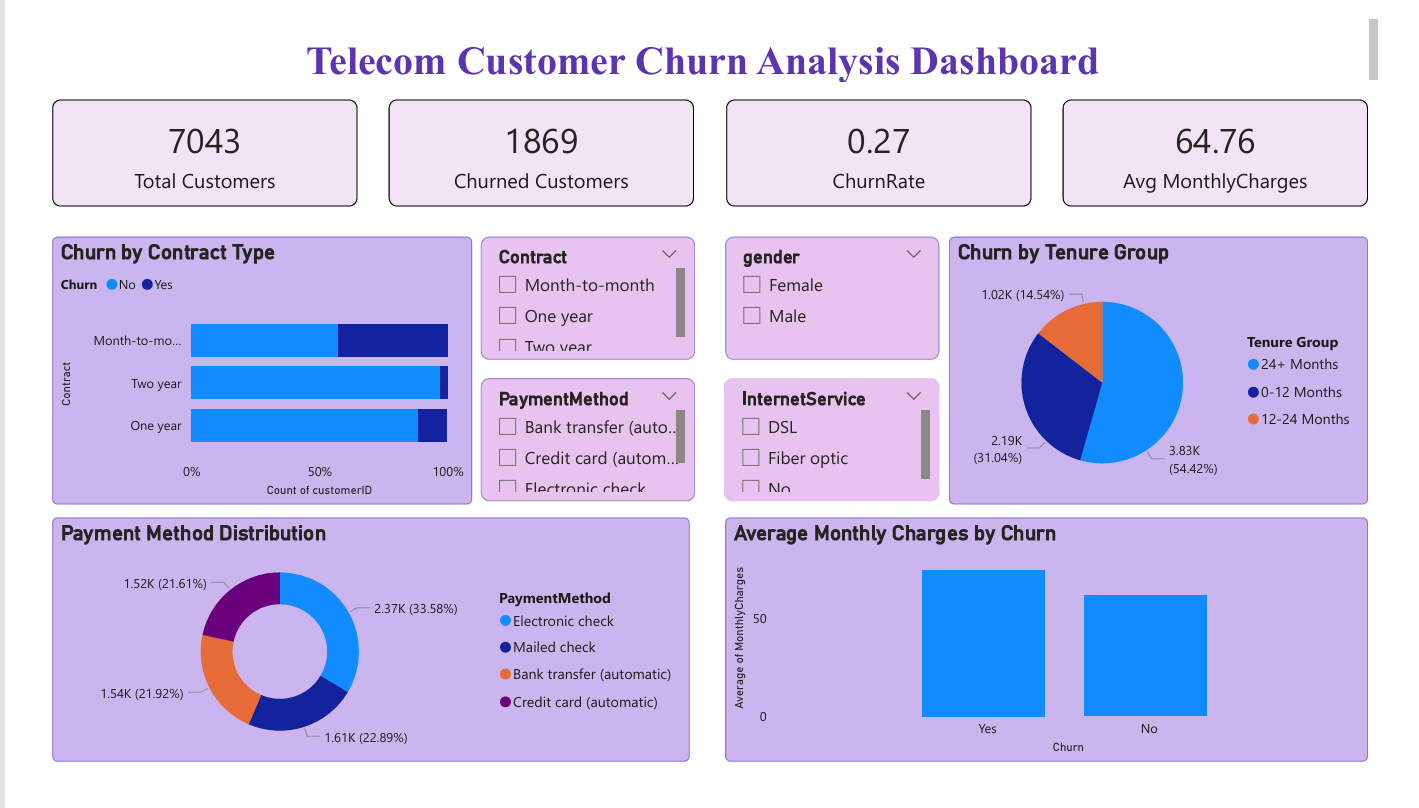

The dashboard page shown, as its layout file describes it:
{"tool":"powerbi","page":{"name":"Page 1","canvas":[1280,720],"ordinal":0},"visuals":[{"type":"hundredPercentStackedBarChart","title":"Churn by Contract Type","fields":{"Category":["telecom dataset.Contract"],"Y":["CountNonNull(telecom dataset.customerID)"],"Series":["telecom dataset.Churn"]},"box":[20,208.3,391.7,250],"z":0},{"type":"pieChart","title":"Churn by Tenure Group","fields":{"Category":["telecom dataset.Tenure Group"],"Y":["CountNonNull(telecom dataset.customerID)"]},"box":[856.7,208.3,391.7,250],"z":1000},{"type":"clusteredColumnChart","title":"Average  Monthly Charges by Churn","fields":{"Category":["telecom dataset.Churn"],"Y":["Avg(telecom dataset.MonthlyCharges)"]},"box":[648.3,470,600,228.3],"z":2000},{"type":"slicer","fields":{"Values":["telecom dataset.Contract"]},"box":[420,208.3,200,115],"z":3000},{"type":"slicer","fields":{"Values":["telecom dataset.PaymentMethod"]},"box":[420,340,200,115],"z":4000},{"type":"slicer","fields":{"Values":["telecom dataset.InternetService"]},"box":[646.7,340,201.7,115],"z":5000},{"type":"slicer","fields":{"Values":["telecom dataset.gender"]},"box":[648.3,208.3,200,115],"z":6000},{"type":"card","fields":{"Values":["telecom dataset.Total Customers"]},"box":[19.6,80,285,100],"z":7000},{"type":"card","fields":{"Values":["telecom dataset.Churned Customers"]},"box":[334.2,80,285,100],"z":8000},{"type":"card","fields":{"Values":["telecom dataset.ChurnRate"]},"box":[648.7,80,285,100],"z":9000},{"type":"card","fields":{"Values":["telecom dataset.Avg MonthlyCharges"]},"box":[963,80,285,100],"z":10000},{"type":"donutChart","title":" Payment Method Distribution","fields":{"Category":["telecom dataset.PaymentMethod"],"Y":["CountNonNull(telecom dataset.customerID)"]},"box":[20,470,595,228],"z":11000},{"type":"textbox","box":[0,0,1261.7,68.3],"z":12000}]}

Visuals, with their boxes in screenshot pixels (x1, y1, x2, y2), scaled from the page's 1280x720 canvas onto the 1419x808 screenshot:
"Churn by Contract Type" hundredPercentStackedBarChart: bbox(22, 234, 456, 514)
"Churn by Tenure Group" pieChart: bbox(950, 234, 1384, 514)
"Average  Monthly Charges by Churn" clusteredColumnChart: bbox(719, 527, 1384, 784)
slicer - telecom dataset.Contract: bbox(466, 234, 687, 363)
slicer - telecom dataset.PaymentMethod: bbox(466, 382, 687, 511)
slicer - telecom dataset.InternetService: bbox(717, 382, 941, 511)
slicer - telecom dataset.gender: bbox(719, 234, 940, 363)
card - telecom dataset.Total Customers: bbox(22, 90, 338, 202)
card - telecom dataset.Churned Customers: bbox(370, 90, 686, 202)
card - telecom dataset.ChurnRate: bbox(719, 90, 1035, 202)
card - telecom dataset.Avg MonthlyCharges: bbox(1068, 90, 1384, 202)
" Payment Method Distribution" donutChart: bbox(22, 527, 682, 783)
textbox: bbox(0, 0, 1399, 77)
